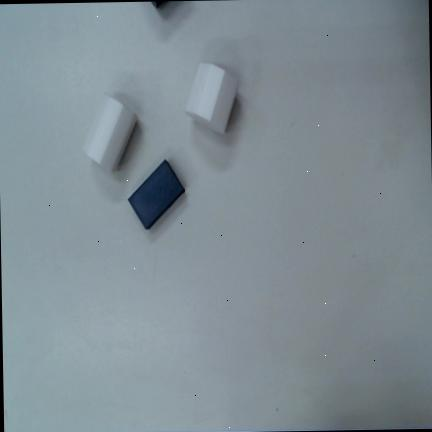Paralelepipedo: (128, 158, 184, 228)
Prisma_hexagonal: (83, 93, 138, 170), (185, 62, 238, 133)
